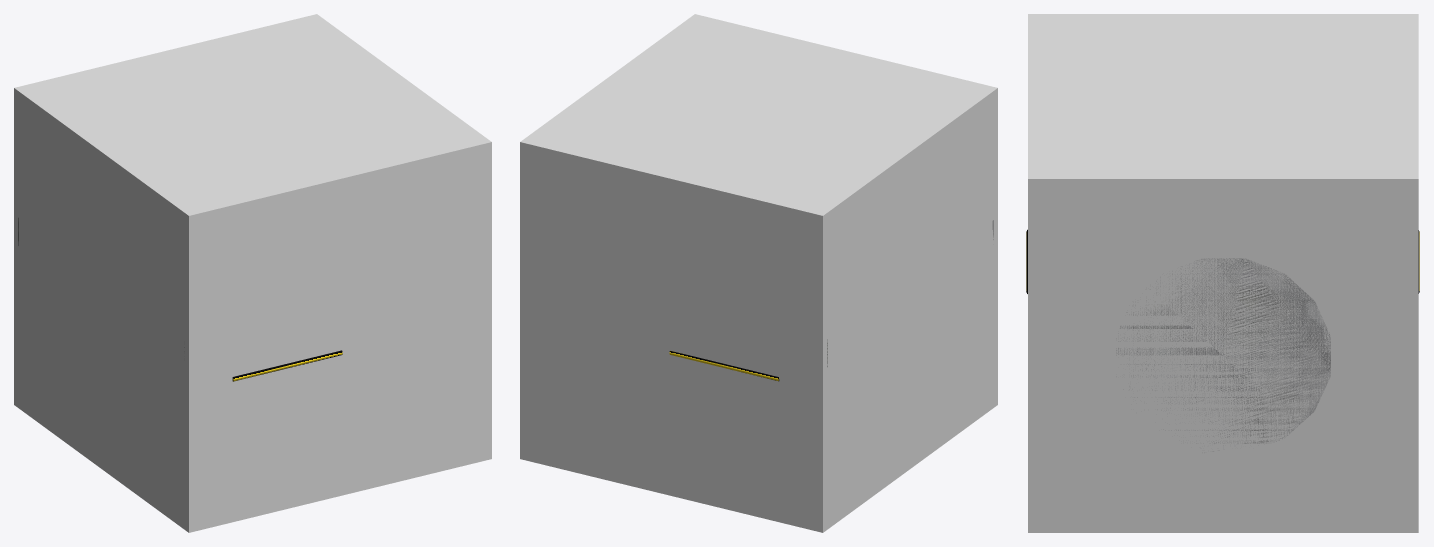
File: Module-3-Edgepiece.glb
3 views of the same model, side by side, from view 1: azimuth 30°, elevation 25°; view 2: azimuth 150°, elevation 25°; view 3: azimuth 270°, elevation 25° (orthographic). The views are drawn at different scales.
Visible parts, largest first — view 1: Cube, Bar; view 2: Cube; view 3: Cube, Protection.
Boxes of the visible parts, left/top/right/bottom form: Cube: left=14, top=14, right=491, bottom=532; Bar: left=232, top=350, right=342, bottom=381; Cube: left=520, top=14, right=997, bottom=532; Cube: left=1028, top=14, right=1418, bottom=532; Protection: left=1116, top=258, right=1330, bottom=452.
Size of the model in its own units: 12 by 12 by 12.09.
8 materials, 7 textured.
